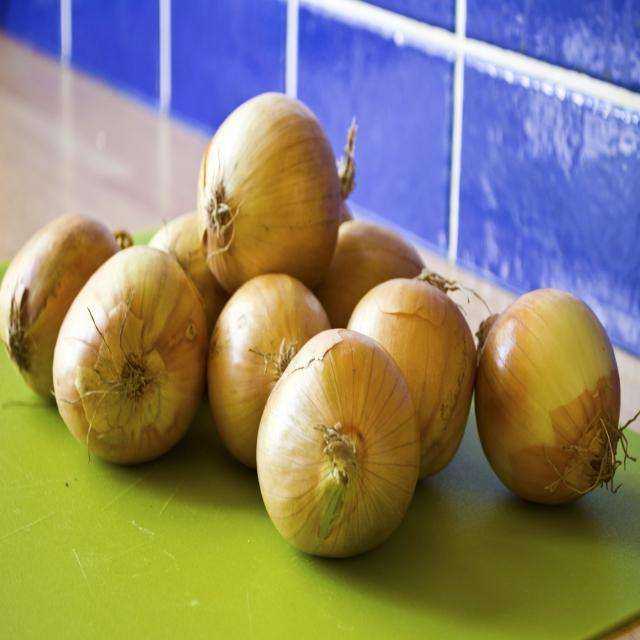Onion: (257, 329, 421, 558), (53, 246, 208, 464), (476, 289, 630, 504), (198, 92, 343, 294), (349, 274, 477, 480), (0, 214, 133, 398), (209, 274, 331, 468), (317, 221, 425, 328), (148, 211, 230, 332)
